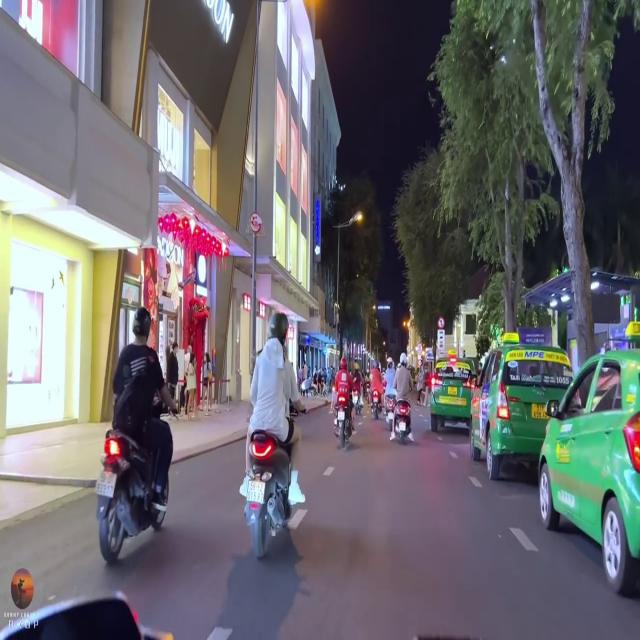bien_trang: (93, 468, 119, 502), (246, 479, 265, 506)
bien_vang: (530, 399, 552, 424)
